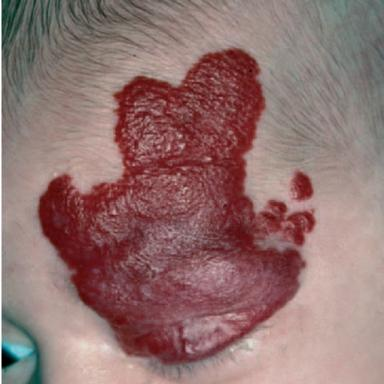Hemangiome: (39, 49, 315, 363), (291, 171, 313, 200)
